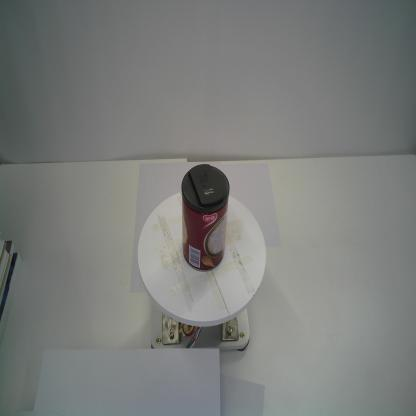Canned Food: (181, 163, 231, 273)
